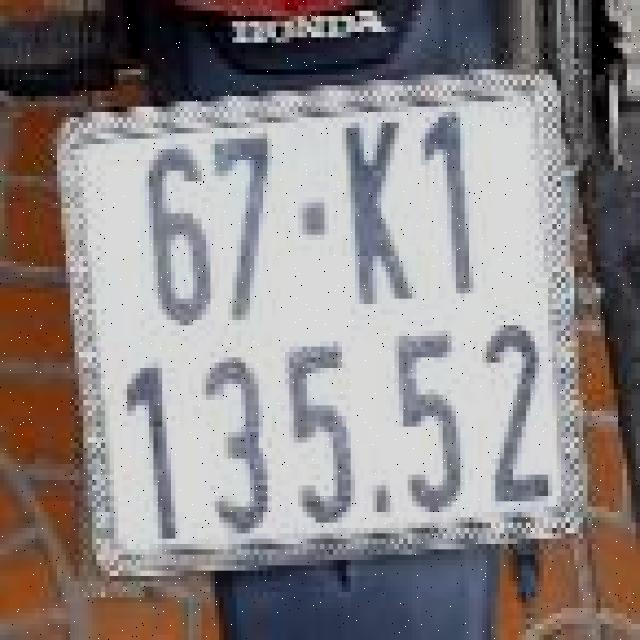1: (107, 358, 191, 550), (421, 117, 486, 288)
2: (476, 317, 554, 515)
3: (204, 352, 283, 533)
5: (270, 336, 370, 533), (383, 328, 467, 515)
6: (140, 133, 219, 331)
7: (204, 123, 283, 325)
K: (327, 104, 423, 323)
